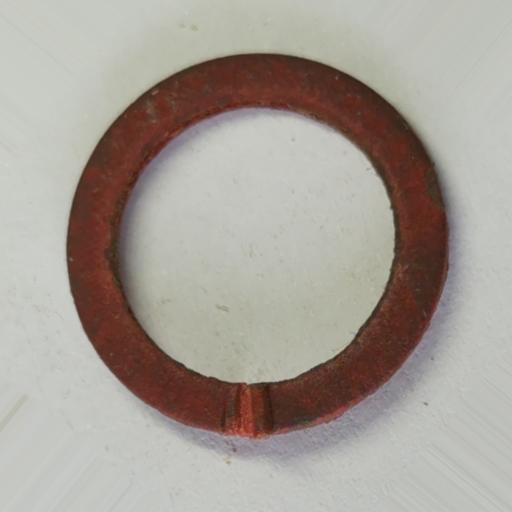defect: (222, 385, 273, 438)
